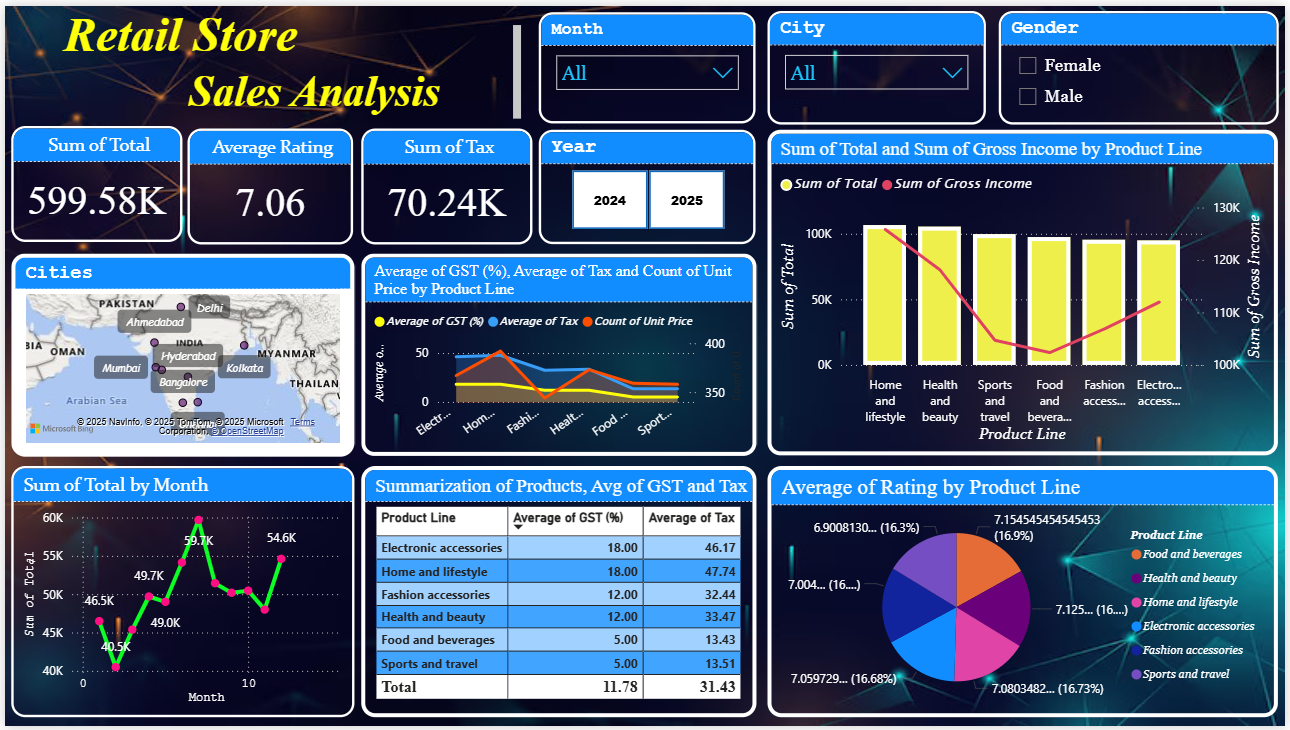

Layout of this report page (visuals, bound fields, positions):
{"tool":"powerbi","page":{"name":"Page 1","canvas":[1280,720],"ordinal":0},"visuals":[{"type":"slicer","title":"Gender","fields":{"Values":["retail_store_sales_with_metro_cities.Gender"]},"box":[993.5,5.5,279.9,113.9],"z":0},{"type":"textbox","box":[11.2,6.2,510,111.2],"z":1000},{"type":"slicer","title":"City","fields":{"Values":["retail_store_sales_with_metro_cities.City"]},"box":[763,5.5,218.2,113.9],"z":2000},{"type":"lineClusteredColumnComboChart","fields":{"Category":["retail_store_sales_with_metro_cities.Product Line"],"Y":["Sum(retail_store_sales_with_metro_cities.Total)"],"Y2":["Sum(retail_store_sales_with_metro_cities.Gross Income)"]},"box":[762.9,124.3,510,325.7],"z":3000},{"type":"card","title":"Sum of Total","fields":{"Values":["Sum(retail_store_sales_with_metro_cities.Total)"]},"box":[5.7,120,171.4,115.7],"z":4000},{"type":"card","title":"Average Rating","fields":{"Values":["Avg(retail_store_sales_with_metro_cities.Rating)"]},"box":[182.5,120,166.2,116.2],"z":5000},{"type":"card","title":"Sum of Tax","fields":{"Values":["Sum(retail_store_sales_with_metro_cities.Tax)"]},"box":[356.2,120,171.2,116.2],"z":6000},{"type":"pieChart","fields":{"Category":["retail_store_sales_with_metro_cities.Product Line"],"Y":["Avg(retail_store_sales_with_metro_cities.Rating)"]},"box":[762.9,460,510,251.4],"z":7000},{"type":"slicer","title":"Year","fields":{"Values":["retail_store_sales_with_metro_cities.Year"]},"box":[533.8,121.2,217.5,115],"z":8000},{"type":"map","title":"Cities","fields":{"Category":["retail_store_sales_with_metro_cities.City"]},"box":[5.7,247.1,342.9,202.9],"z":9000},{"type":"slicer","title":"Month","fields":{"Values":["retail_store_sales_with_metro_cities.Month"]},"box":[534.3,5.7,217.1,111.4],"z":10000},{"type":"lineChart","fields":{"Y":["Sum(retail_store_sales_with_metro_cities.Total)"],"Category":["retail_store_sales_with_metro_cities.Month"]},"box":[5.7,460,342.9,251.4],"z":11000},{"type":"tableEx","title":"Summarization of Products, Avg of GST and Tax","fields":{"Values":["retail_store_sales_with_metro_cities.Product Line","Avg(retail_store_sales_with_metro_cities.GST (%))","Avg(retail_store_sales_with_metro_cities.Tax)"]},"box":[356.2,460,395,251.2],"z":12000},{"type":"areaChart","fields":{"Category":["retail_store_sales_with_metro_cities.Product Line"],"Y":["Avg(retail_store_sales_with_metro_cities.GST (%))","Avg(retail_store_sales_with_metro_cities.Tax)"],"Y2":["Count(retail_store_sales_with_metro_cities.Unit Price)"]},"box":[356.2,247.5,395,202.5],"z":13000}]}

Visuals, with their boxes in screenshot pixels (x1, y1, x2, y2), scaled from the page's 1280x720 canvas onto the 1290x730 screenshot:
"Gender" slicer: detection(1001, 6, 1283, 121)
textbox: detection(11, 6, 525, 119)
"City" slicer: detection(769, 6, 989, 121)
lineClusteredColumnComboChart - retail_store_sales_with_metro_cities.Product Line x Sum(retail_store_sales_with_metro_cities.Total): detection(769, 126, 1283, 456)
"Sum of Total" card: detection(6, 122, 178, 239)
"Average Rating" card: detection(184, 122, 351, 239)
"Sum of Tax" card: detection(359, 122, 532, 239)
pieChart - retail_store_sales_with_metro_cities.Product Line x Avg(retail_store_sales_with_metro_cities.Rating): detection(769, 466, 1283, 721)
"Year" slicer: detection(538, 123, 757, 239)
"Cities" map: detection(6, 251, 351, 456)
"Month" slicer: detection(538, 6, 757, 119)
lineChart - Sum(retail_store_sales_with_metro_cities.Total) x retail_store_sales_with_metro_cities.Month: detection(6, 466, 351, 721)
"Summarization of Products, Avg of GST and Tax" tableEx: detection(359, 466, 757, 721)
areaChart - retail_store_sales_with_metro_cities.Product Line x Avg(retail_store_sales_with_metro_cities.GST (%)): detection(359, 251, 757, 456)
